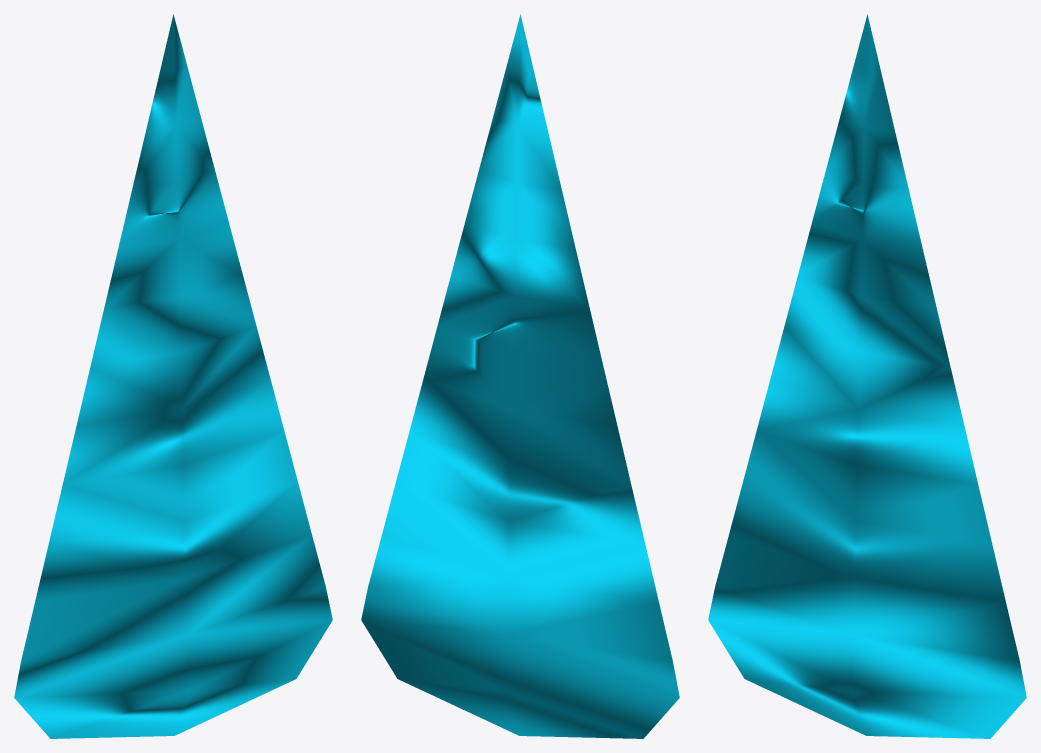
File: Droplet.obj
The picture shows the model from 3 angles, left to right: view 1: azimuth 30°, elevation 25°; view 2: azimuth 150°, elevation 25°; view 3: azimuth 330°, elevation 25°; orthographic projection.
Visible parts, largest first — view 1: pPyramid1; view 2: pPyramid1; view 3: pPyramid1.
Part boxes in pixels (<box>): pPyramid1: <box>14,14,332,738</box>; pPyramid1: <box>361,14,679,738</box>; pPyramid1: <box>708,14,1026,738</box>.
Bounding box in the file's own units: 2.71 × 5.87 × 0.4545.
1 material, 1 textured.
